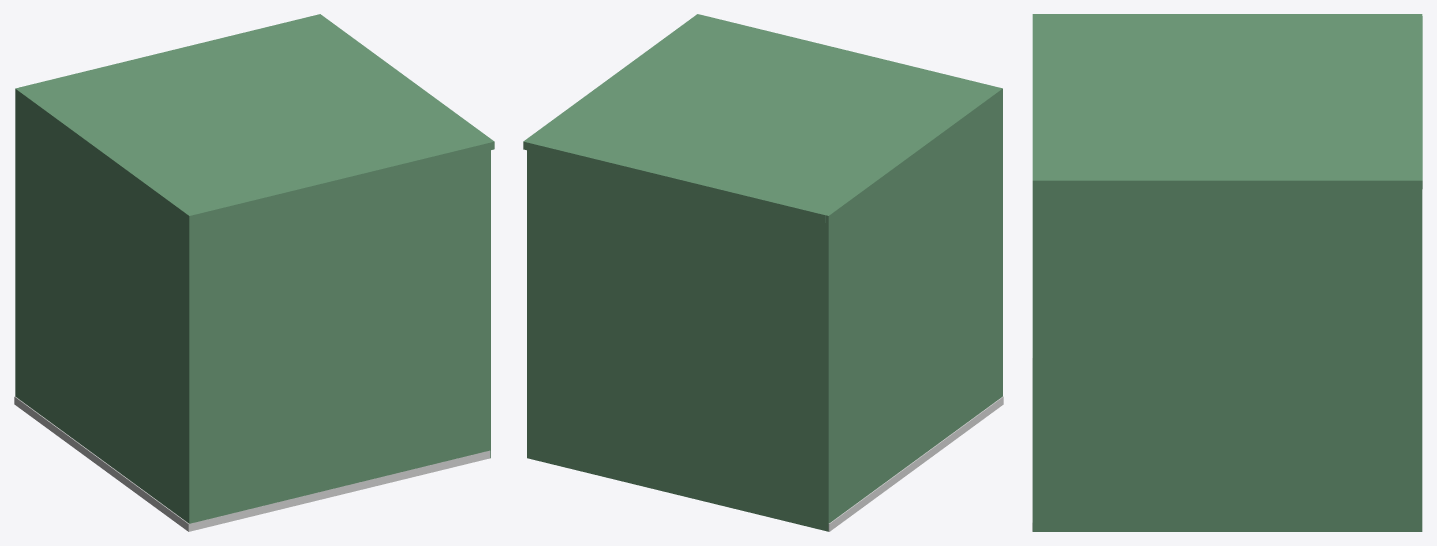
File: KAMAR MANDI FIX 03.fbx
3 renders of one model, left to right at view 1: azimuth 30°, elevation 25°; view 2: azimuth 150°, elevation 25°; view 3: azimuth 270°, elevation 25°, orthographic. The views are drawn at different scales.
Parts seen in each view (by area): view 1: TUTUP.001, TUTUP, LANTAI; view 2: TUTUP.001, TUTUP, LANTAI; view 3: TUTUP.001, TUTUP.
Part boxes in pixels (<box>): TUTUP.001: <box>15,16,490,523</box>; TUTUP: <box>19,14,494,214</box>; LANTAI: <box>14,396,490,531</box>; TUTUP.001: <box>527,15,1002,531</box>; TUTUP: <box>523,14,994,222</box>; LANTAI: <box>828,396,1003,531</box>; TUTUP.001: <box>1032,14,1422,531</box>; TUTUP: <box>1032,16,1422,189</box>.
Bounding box in the file's own units: 1357 × 1366 × 1339.
